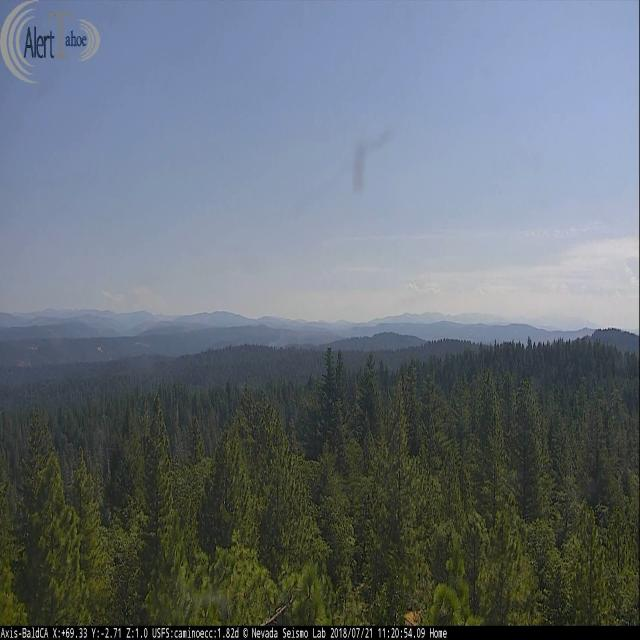smoke: (268, 332, 285, 349)
